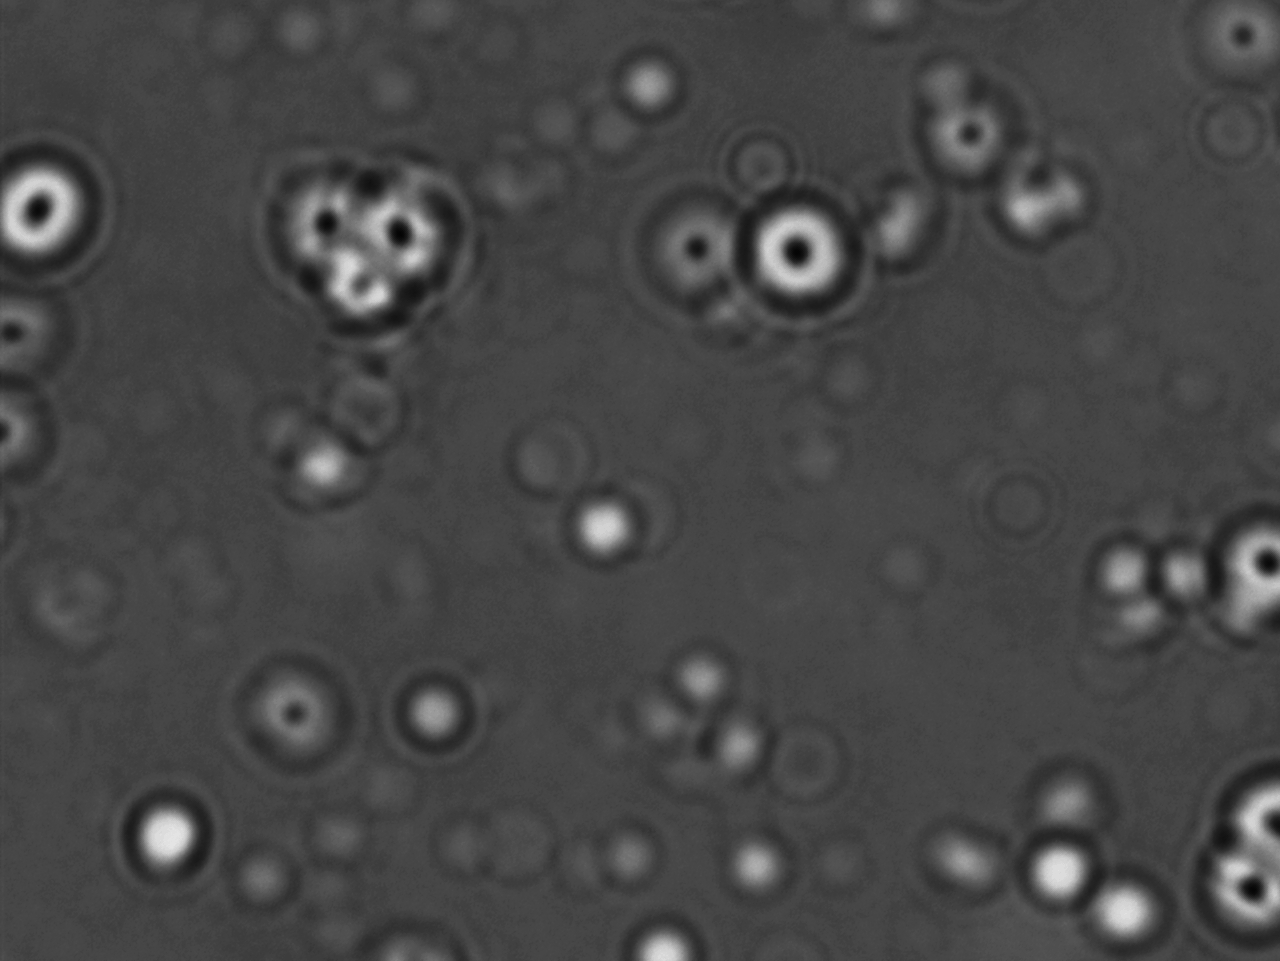depth:24: (726, 189, 862, 323), (343, 167, 479, 301), (1213, 499, 1280, 619)
